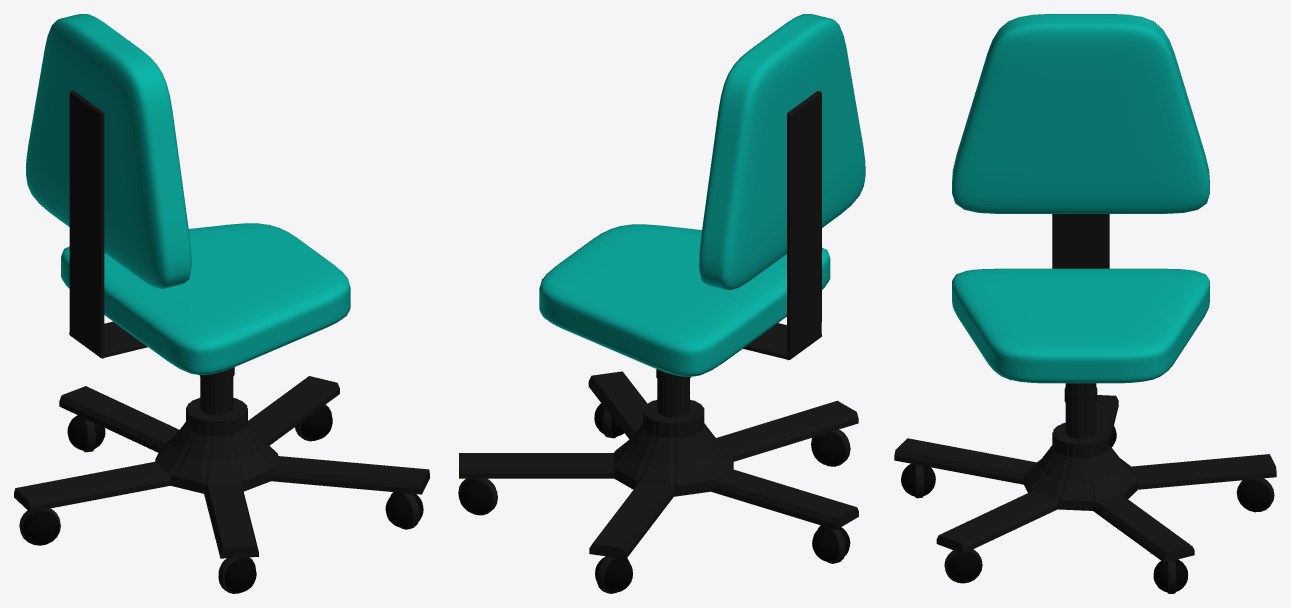
File: Chair5.fbx
3 views of the same model, side by side, from view 1: azimuth 30°, elevation 25°; view 2: azimuth 150°, elevation 25°; view 3: azimuth 270°, elevation 25° (orthographic). The views are drawn at different scales.
Parts seen in each view (by area): view 1: pCube4, pDisc8, pCube1, pCube2, pSphere1 (×5); view 2: pCube4, pDisc8, pCube1, pCube2, pSphere1 (×4); view 3: pCube4, pCube1, pDisc8, pCube2, pSphere1 (×4).
Part boxes in pixels (x1=…): pCube4: x1=26, y1=14, x2=191, y2=288; pDisc8: x1=14, y1=367, x2=429, y2=558; pCube1: x1=61, y1=223, x2=350, y2=375; pCube2: x1=69, y1=90, x2=147, y2=358; pSphere1 (×5): x1=22, y1=406, x2=423, y2=592; pCube4: x1=699, y1=14, x2=865, y2=290; pDisc8: x1=459, y1=369, x2=858, y2=558; pCube1: x1=539, y1=224, x2=830, y2=376; pCube2: x1=743, y1=91, x2=821, y2=360; pSphere1 (×4): x1=459, y1=430, x2=850, y2=592; pCube4: x1=952, y1=14, x2=1209, y2=213; pCube1: x1=952, y1=268, x2=1209, y2=383; pDisc8: x1=894, y1=383, x2=1276, y2=562; pCube2: x1=1052, y1=214, x2=1109, y2=268; pSphere1 (×4): x1=901, y1=463, x2=1270, y2=592.
Size of the model in its own units: 0.8259 by 1.11 by 0.8402.
